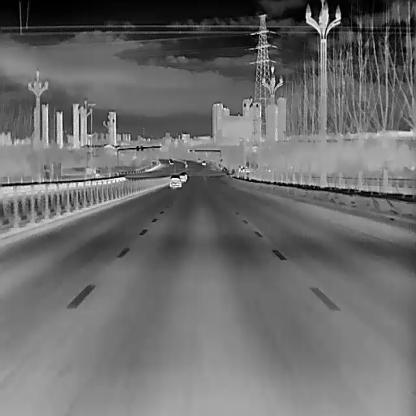car: (169, 173, 181, 188), (178, 172, 186, 181), (168, 158, 173, 164), (201, 159, 205, 164)
